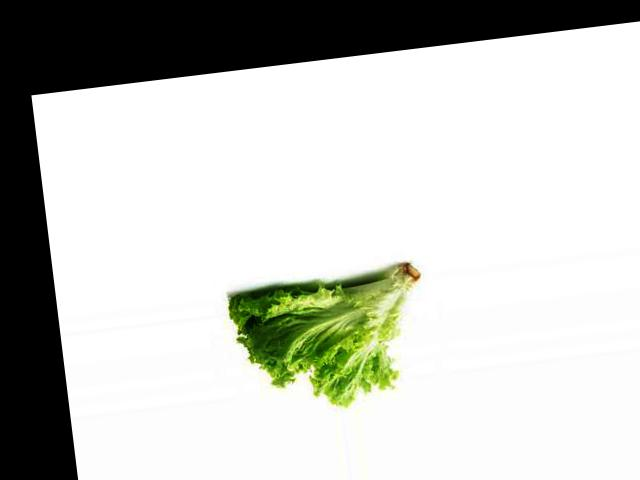lettuce: (270, 232, 441, 376)
